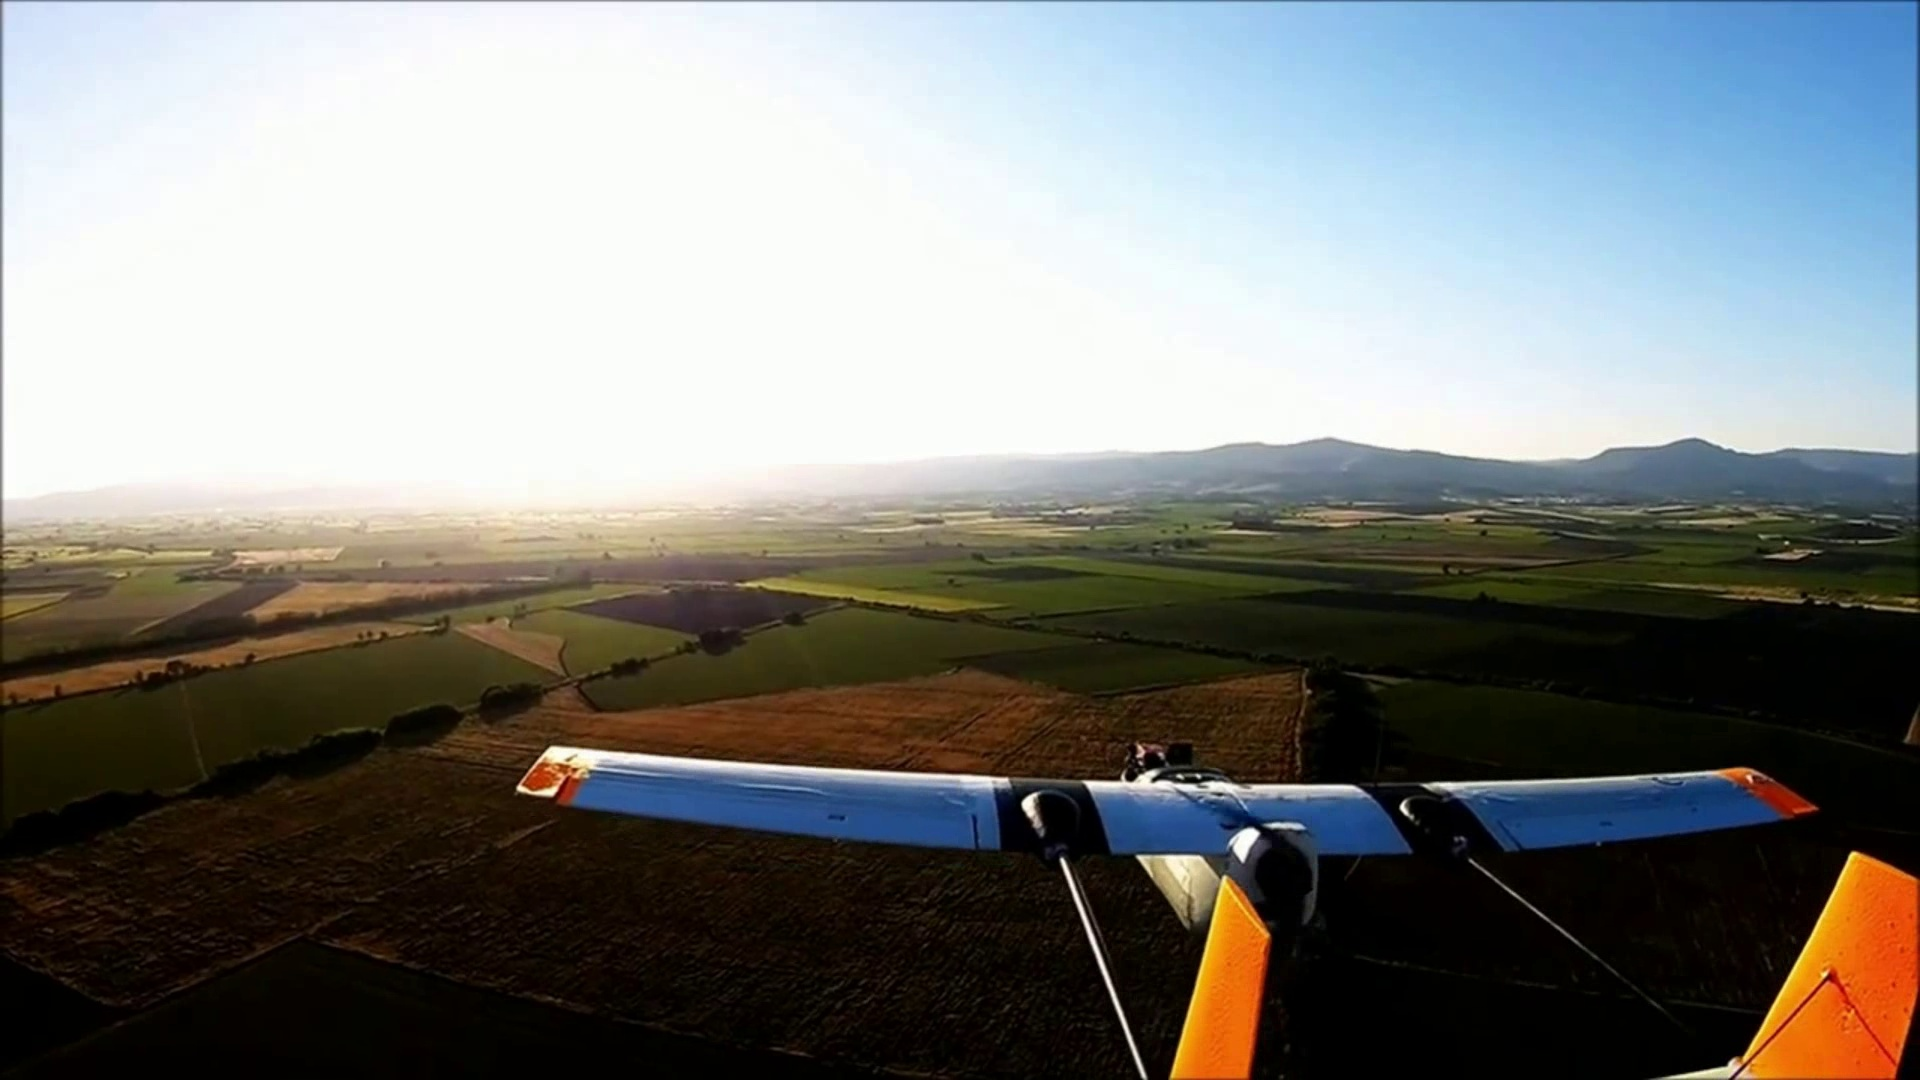airplane: (512, 738, 1917, 1067)
